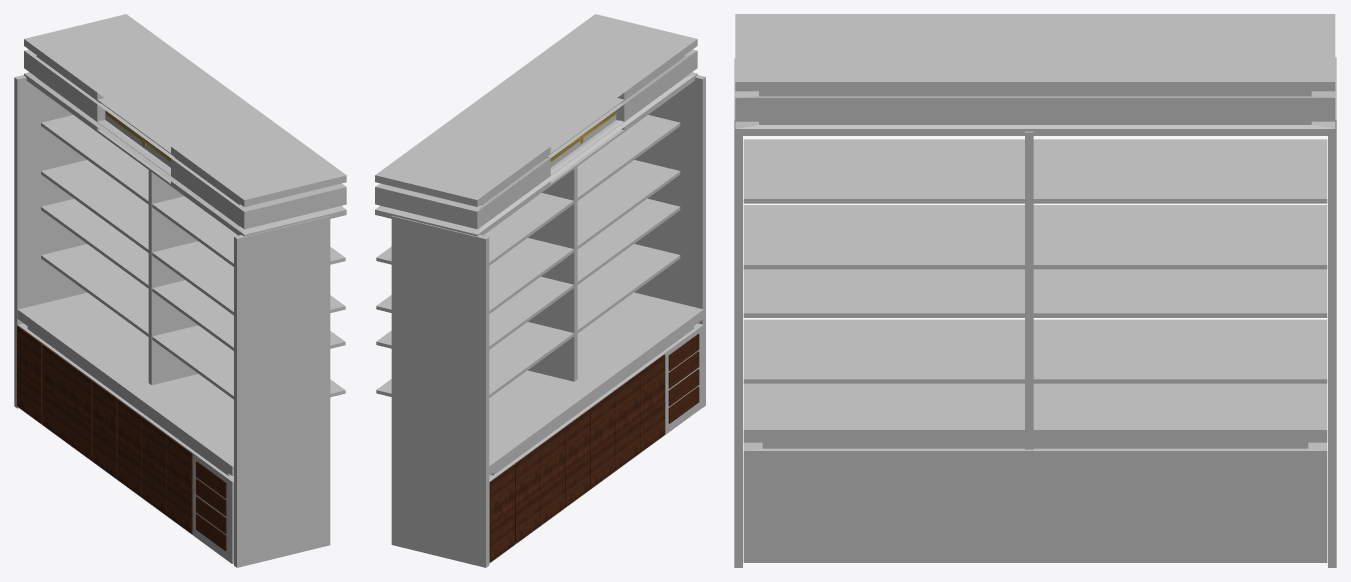
Rendered from Libary 2.fbx.
3 renders of one model, left to right at view 1: azimuth 30°, elevation 25°; view 2: azimuth 150°, elevation 25°; view 3: azimuth 270°, elevation 25°, orthographic. The views are drawn at different scales.
Parts seen in each view (by area): view 1: pCube921, pCube933, pCube935, pCube934, pCube927, pCube925, pCube926, pCube924, pCube923, pCube939, pCube938, pCube941 (+8 smaller); view 2: pCube921, pCube934, pCube935, pCube933, pCube927, pCube925, pCube926, pCube924, pCube923, pCube942, pCube936, pCube938 (+8 smaller); view 3: pCube935, pCube921, pCube925, pCube927, pCube924, pCube926, pCube934, pCube933, pCube923.
Boxes of the visible parts, x1,y1,x2,y2 form: pCube921: [24, 14, 346, 236]; pCube933: [234, 216, 330, 567]; pCube935: [17, 292, 233, 563]; pCube934: [14, 75, 86, 408]; pCube927: [41, 244, 345, 399]; pCube925: [41, 160, 345, 315]; pCube926: [41, 199, 345, 350]; pCube924: [41, 115, 345, 266]; pCube923: [148, 170, 198, 385]; pCube939: [67, 362, 92, 460]; pCube938: [92, 381, 117, 478]; pCube941: [167, 436, 192, 533]; pCube921: [375, 14, 697, 236]; pCube934: [391, 216, 489, 567]; pCube935: [489, 292, 703, 563]; pCube933: [634, 75, 705, 407]; pCube927: [376, 244, 680, 397]; pCube925: [376, 160, 680, 313]; pCube926: [376, 198, 680, 349]; pCube924: [376, 115, 680, 265]; pCube923: [528, 166, 577, 381]; pCube942: [615, 373, 640, 470]; pCube936: [489, 464, 514, 562]; pCube938: [565, 409, 590, 507]; pCube935: [743, 383, 1327, 562]; pCube921: [735, 14, 1335, 135]; pCube925: [743, 205, 1327, 269]; pCube927: [743, 319, 1327, 383]; pCube924: [743, 139, 1327, 203]; pCube926: [743, 269, 1327, 317]; pCube934: [1328, 57, 1336, 567]; pCube933: [734, 58, 742, 567]; pCube923: [1025, 131, 1033, 449].
Size of the model in its own units: 163 by 496 by 545.
